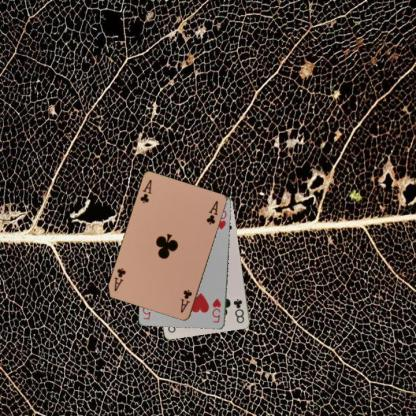5h: (210, 296, 222, 324)
8c: (231, 296, 246, 325)
Ac: (178, 287, 194, 314), (138, 178, 153, 204)
